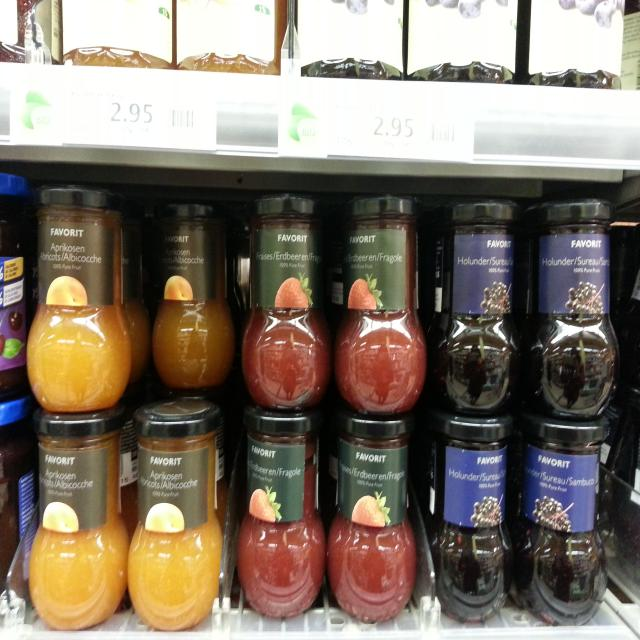Spreads: (22, 187, 135, 412), (128, 394, 226, 637), (511, 418, 619, 628), (427, 195, 529, 415), (531, 194, 624, 418), (27, 420, 129, 624), (238, 404, 329, 621), (340, 189, 428, 412), (326, 410, 419, 621), (245, 191, 333, 408), (425, 416, 512, 629), (150, 195, 239, 387)
